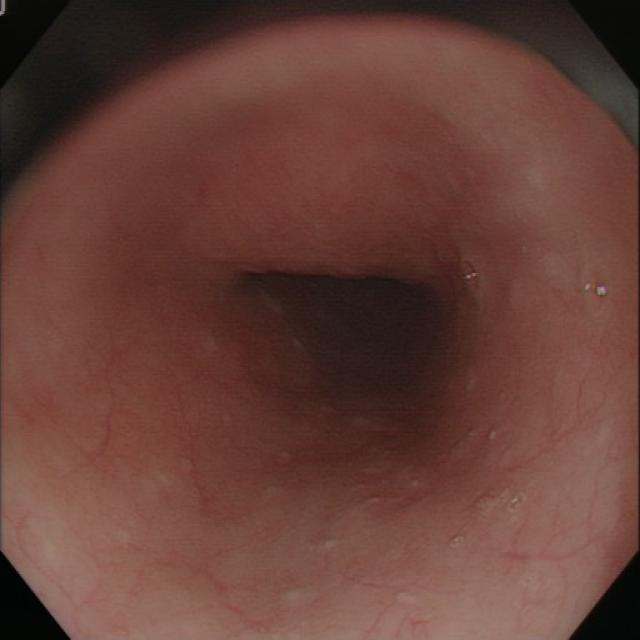E: (234, 246, 443, 414)
T: (580, 263, 612, 318), (471, 491, 527, 516), (459, 260, 484, 294)
